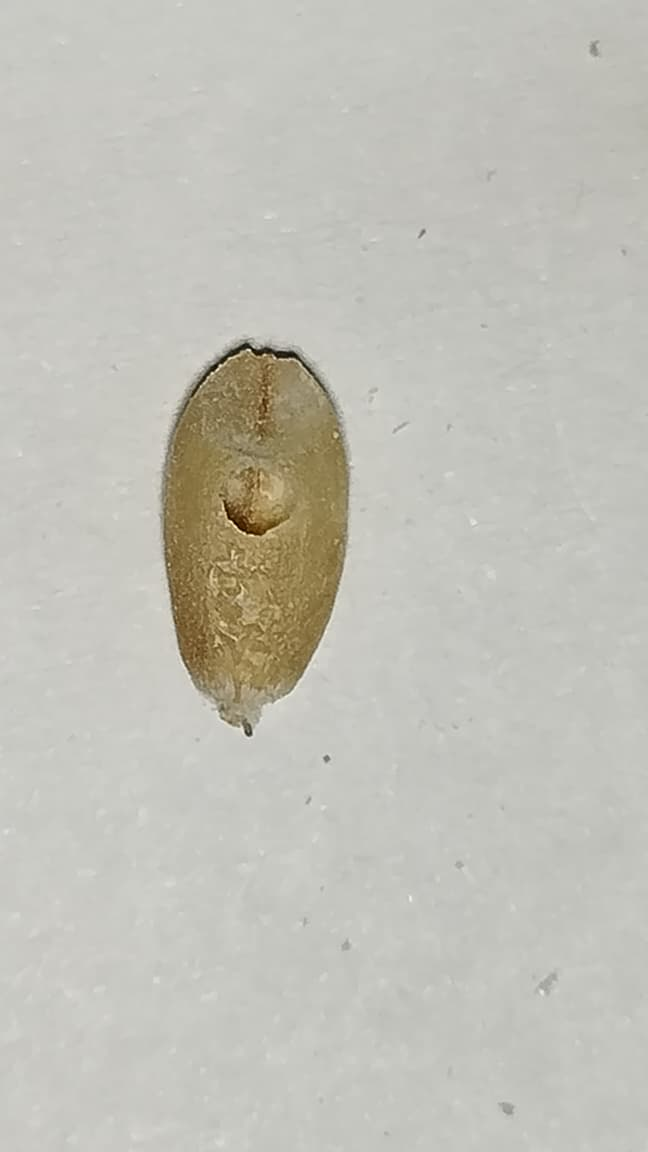damage: (165, 349, 348, 702)
insectdamage: (200, 342, 338, 457), (213, 446, 299, 558)
molddamage: (183, 661, 293, 736)
